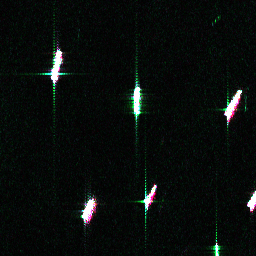ship: (222, 85, 244, 120), (78, 195, 97, 223), (49, 49, 63, 82), (141, 183, 159, 206), (131, 86, 141, 116), (246, 190, 255, 211), (212, 241, 220, 254)
